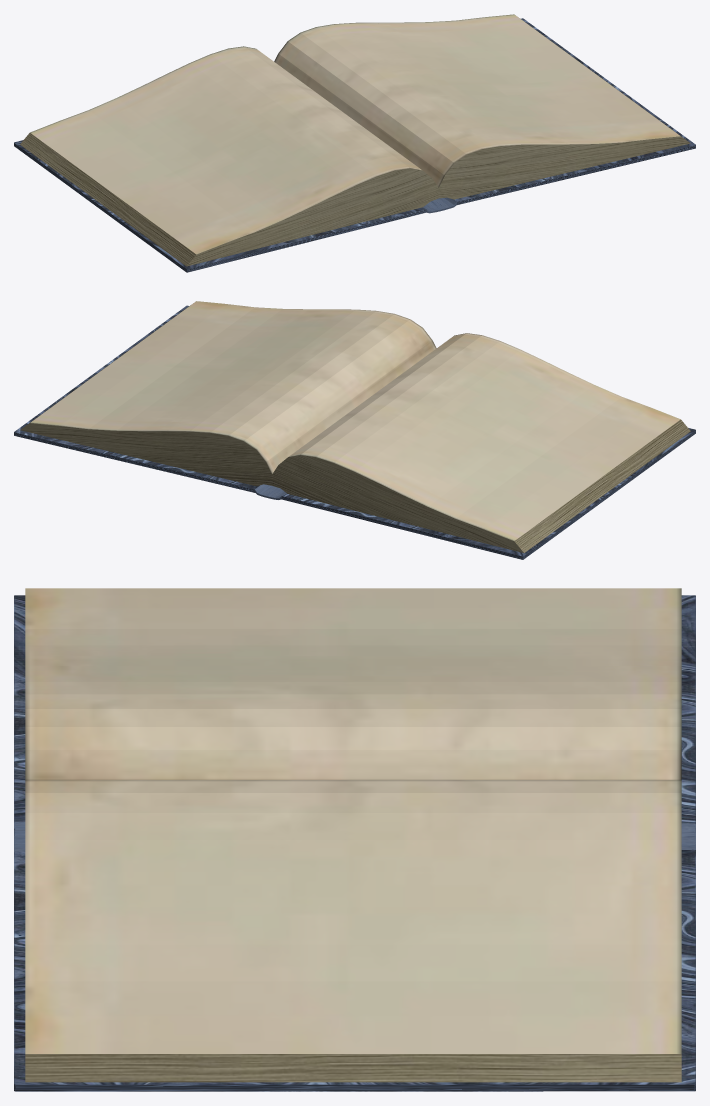
The picture shows the model from 3 angles, top to bottom: view 1: azimuth 30°, elevation 25°; view 2: azimuth 150°, elevation 25°; view 3: azimuth 270°, elevation 25°; orthographic projection. The views are drawn at different scales.
Parts seen in each view (by area): view 1: pagine2-material, pageside1-material, cover_1-material; view 2: pagine2-material, pageside1-material, cover_1-material; view 3: pagine2-material, cover_1-material, pageside1-material, cover2-material.
Part boxes in pixels (<box>): pagine2-material: <box>30,14,680,254</box>; pageside1-material: <box>20,21,690,266</box>; cover_1-material: <box>14,18,695,272</box>; pagine2-material: <box>30,301,680,540</box>; pageside1-material: <box>20,305,690,552</box>; cover_1-material: <box>14,305,695,559</box>; pagine2-material: <box>25,588,681,1053</box>; cover_1-material: <box>14,595,695,1091</box>; pageside1-material: <box>25,1054,681,1082</box>; cover2-material: <box>14,822,695,851</box>.
Size of the model in its own units: 4.21 by 0.3877 by 2.48.
Materials: 5 (4 with a texture image).
